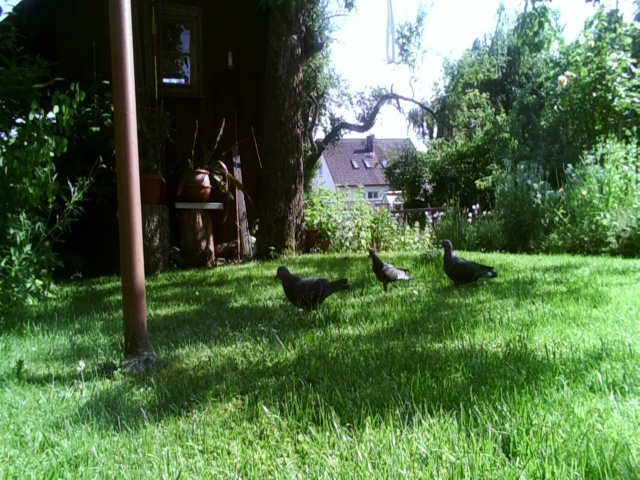Pigeon: (271, 263, 350, 316), (438, 238, 495, 287), (363, 245, 409, 296)
